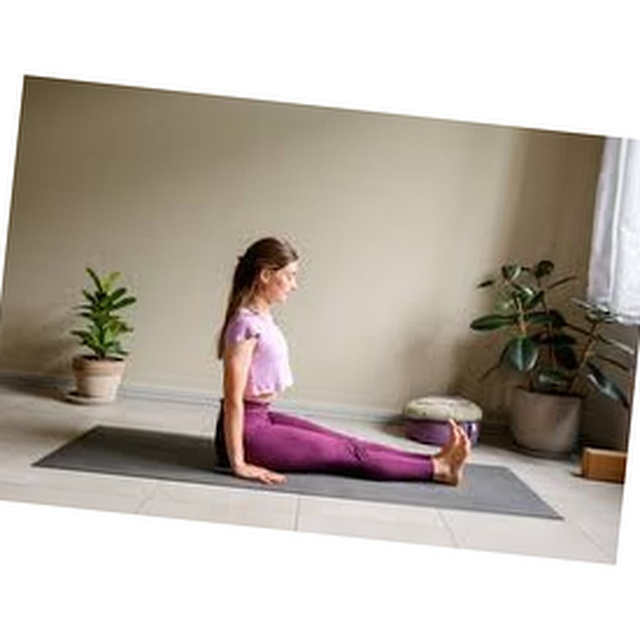Staff_Pose: (213, 237, 472, 490)
